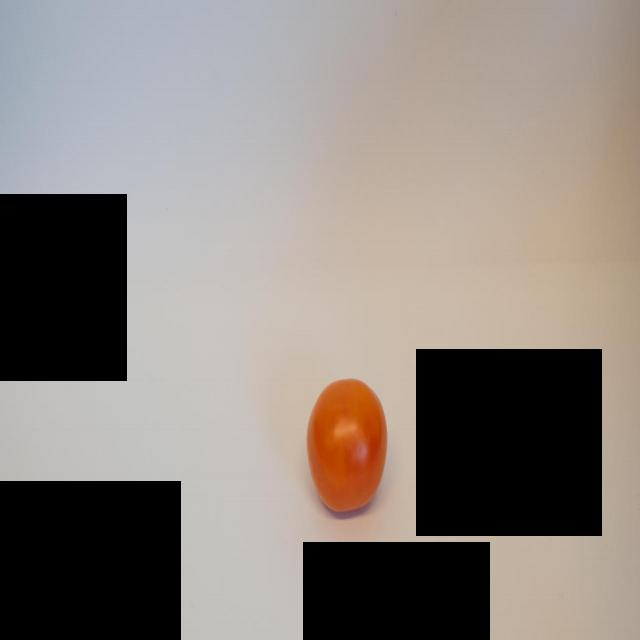tomato: (303, 369, 388, 522)
